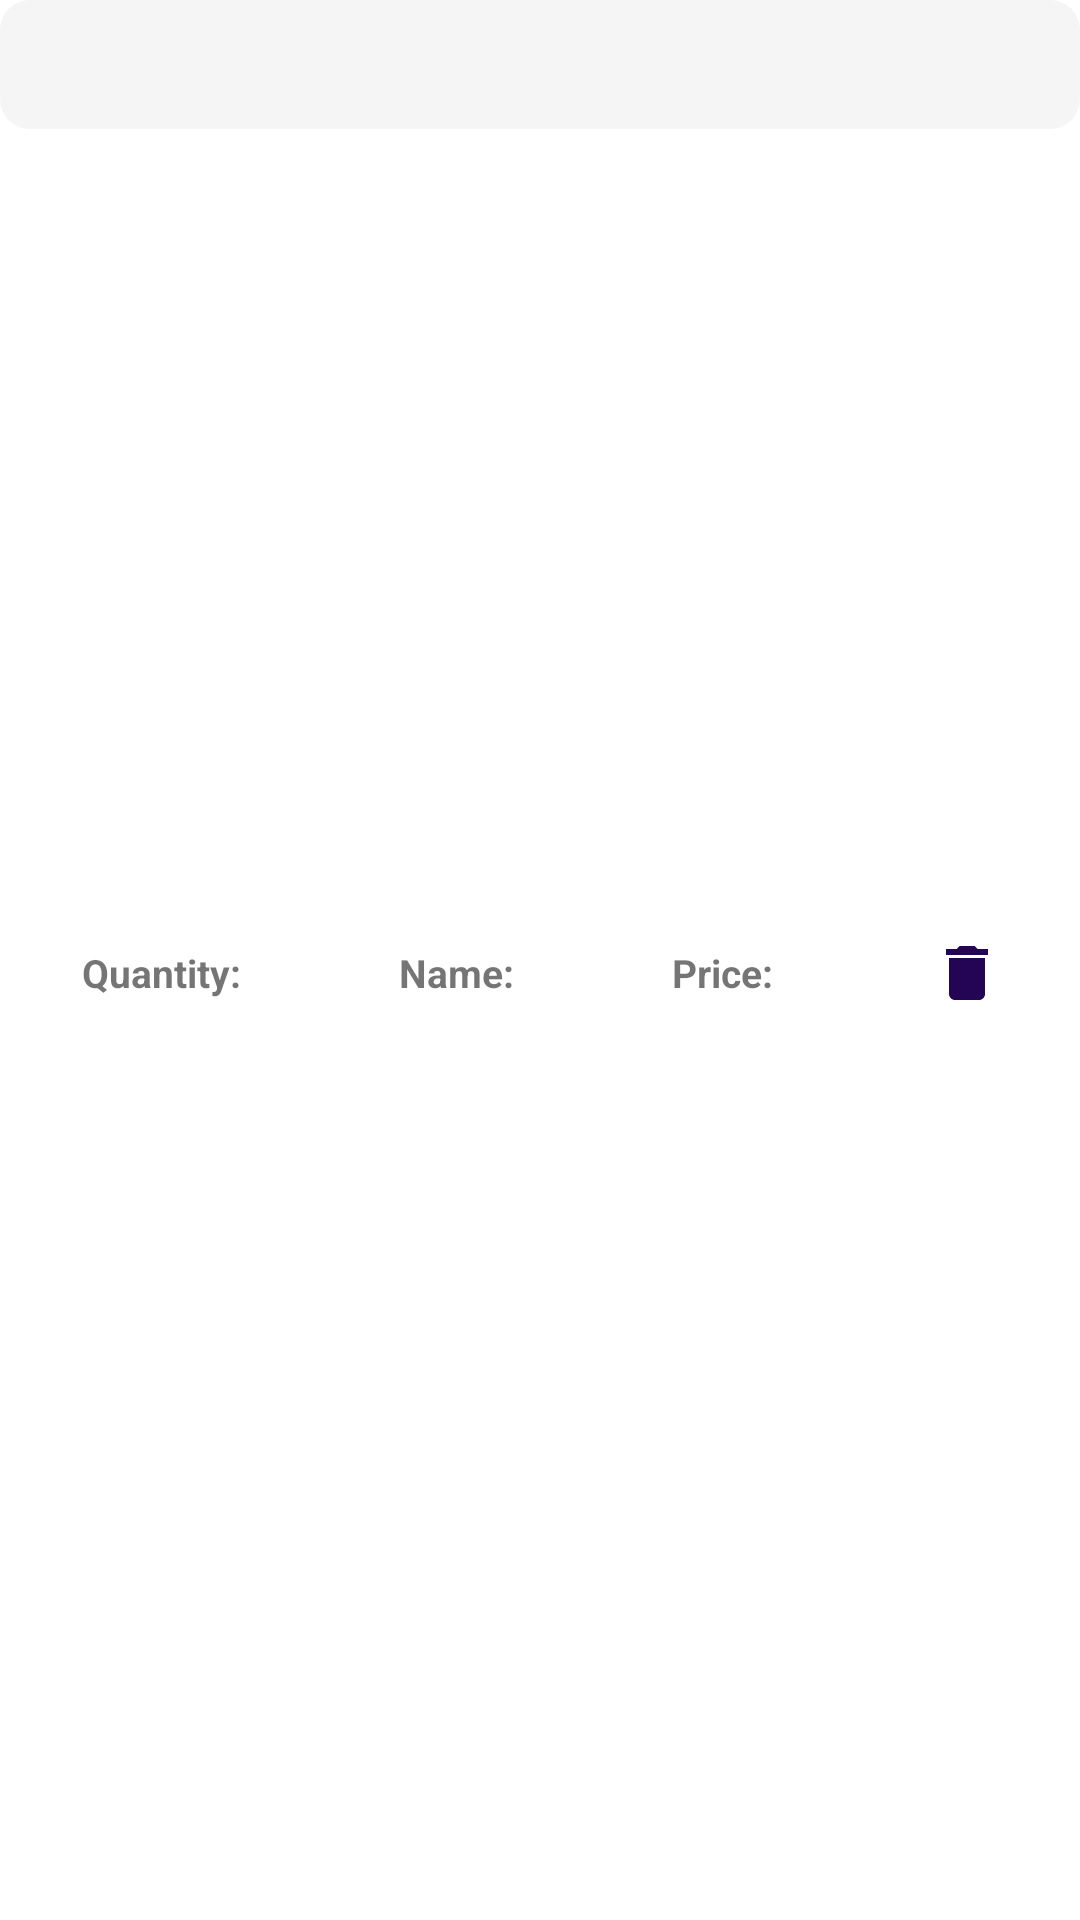

Where icons sit on this 1080×1920 app screen, as (x1, y1, x2, y2):
delete: (946, 946, 988, 1000)
